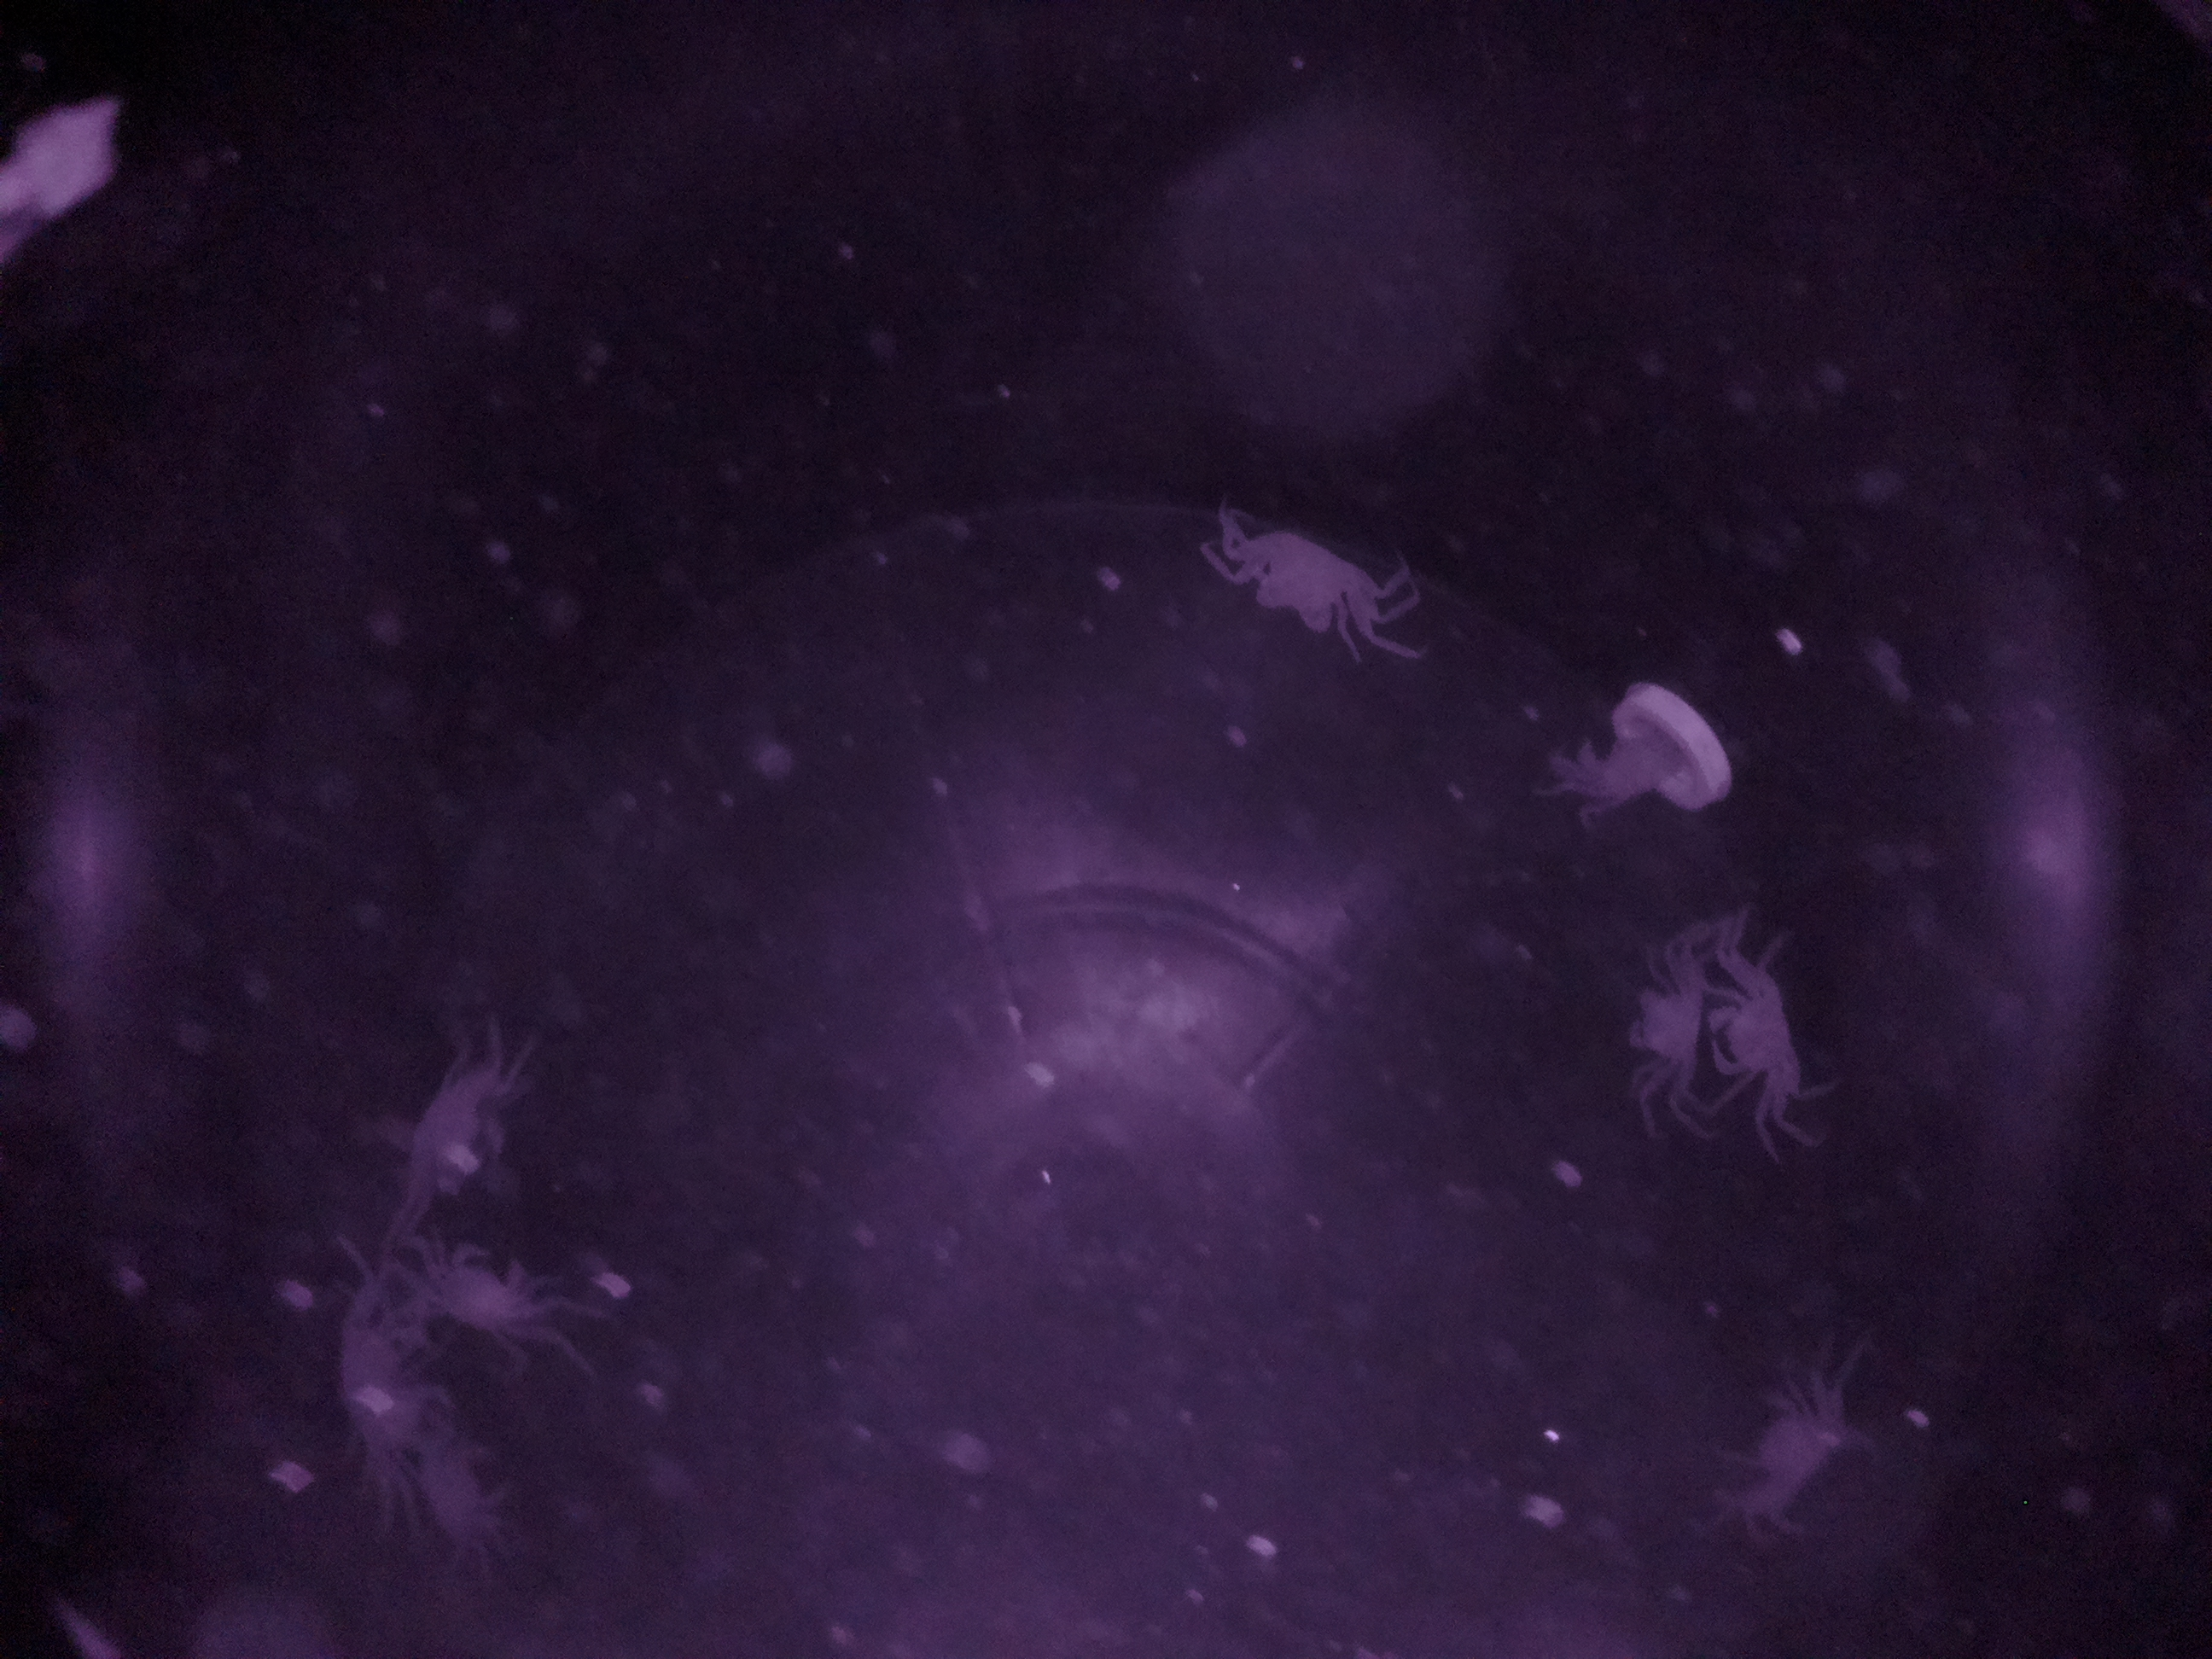Crab: (1221, 490, 1407, 678), (1696, 929, 1834, 1145), (1602, 915, 1696, 1145)
